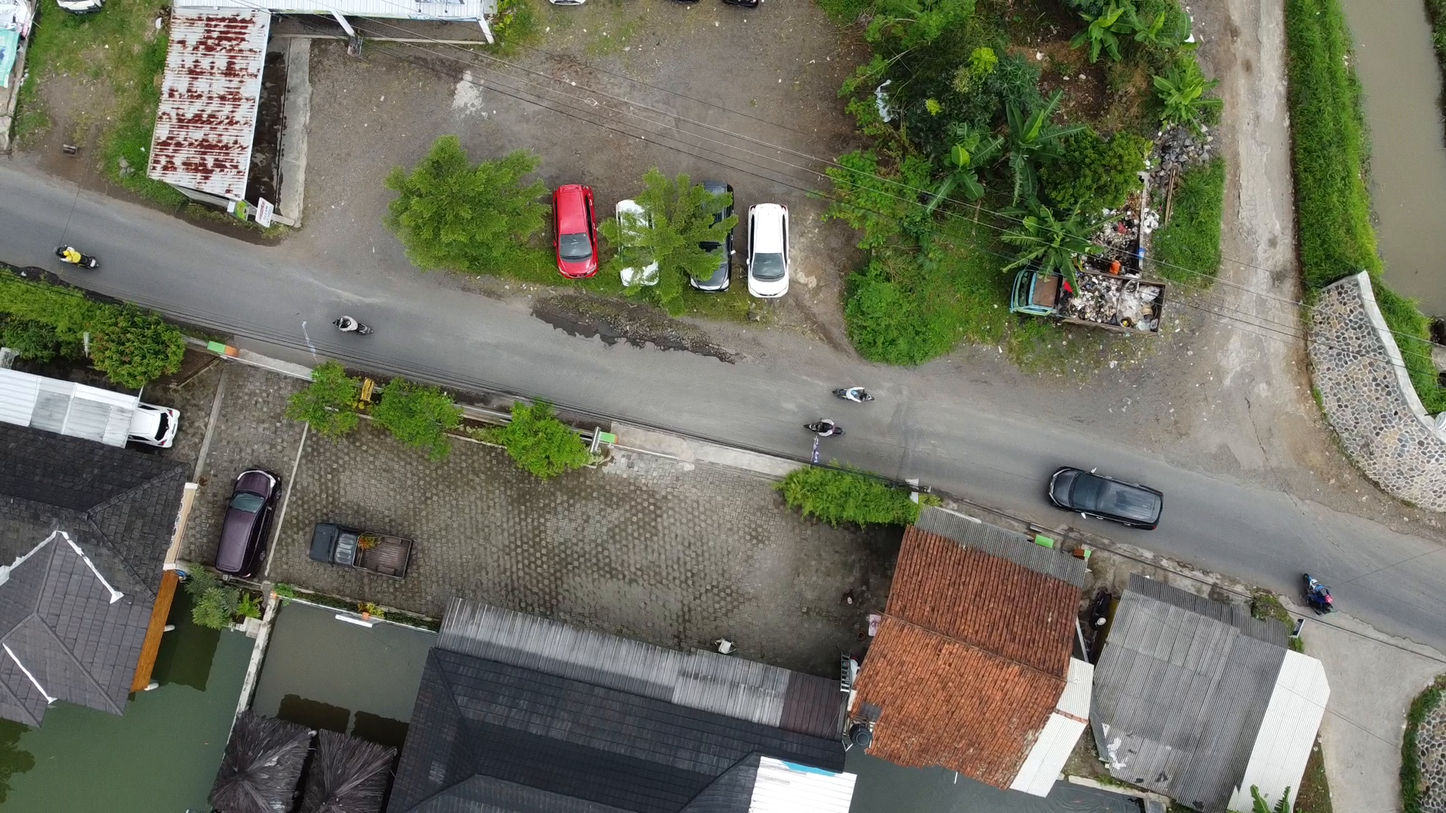mobil: (1037, 452, 1182, 537), (197, 461, 289, 581), (301, 510, 416, 586), (688, 168, 743, 308), (548, 171, 602, 288), (750, 194, 801, 306), (611, 194, 668, 294), (114, 397, 194, 458)
